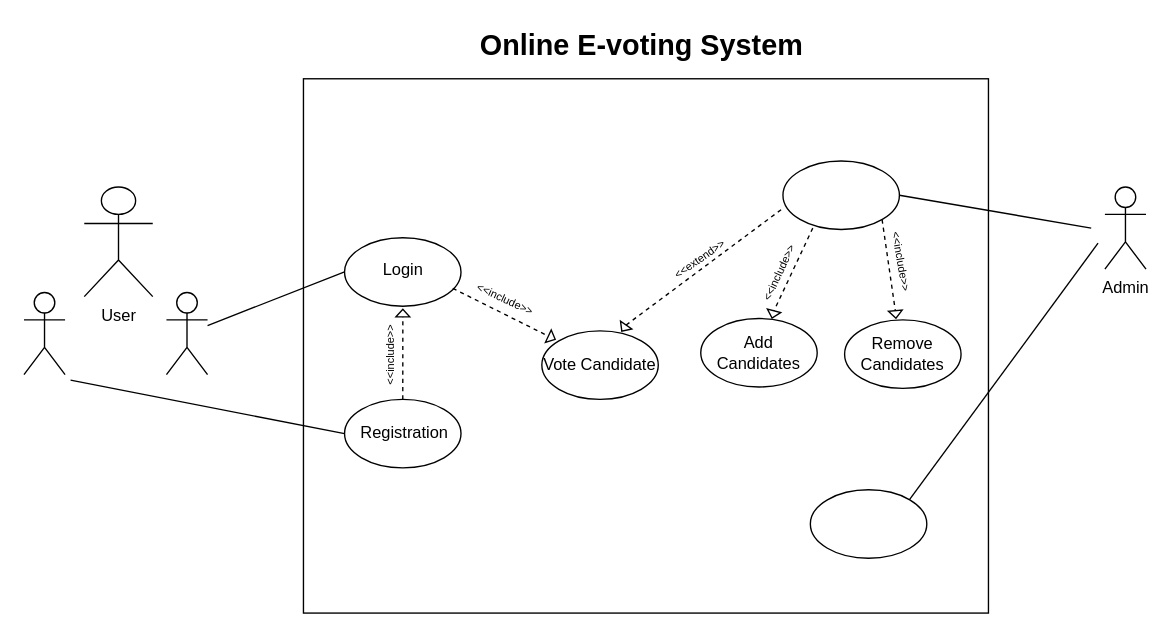
This 1173x637 diagram has some shape labels left out. Each missing label, with the centre of its shape:
"Existing" belongs at point (186, 333).
"Modifying Candidates" belongs at point (840, 194).
"New" belongs at point (44, 333).
"Voting monitoring and checking" belongs at point (868, 523).
